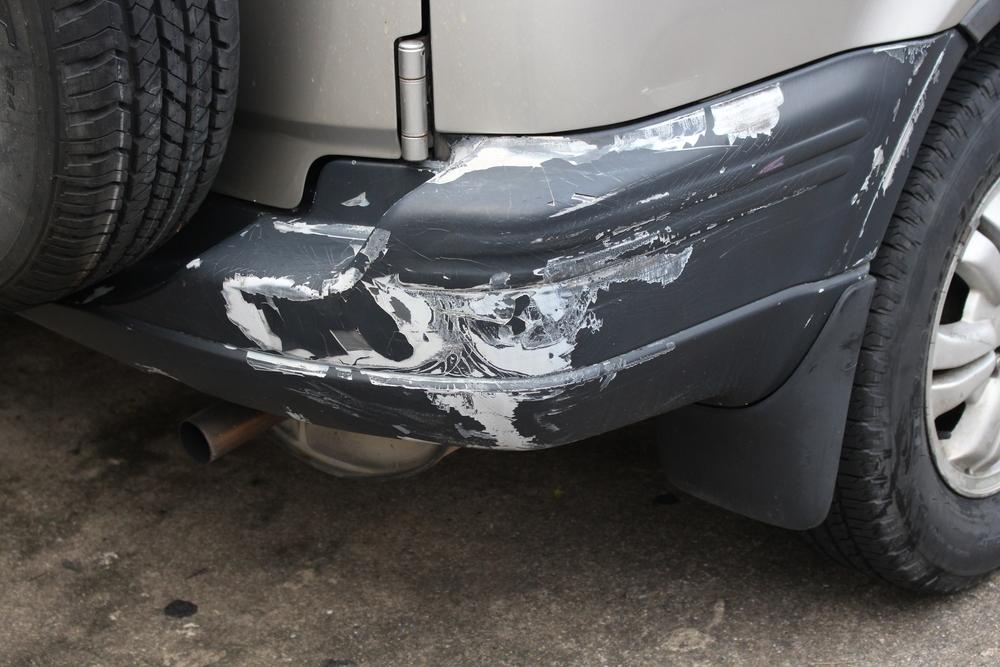scratch: (223, 80, 794, 451)
